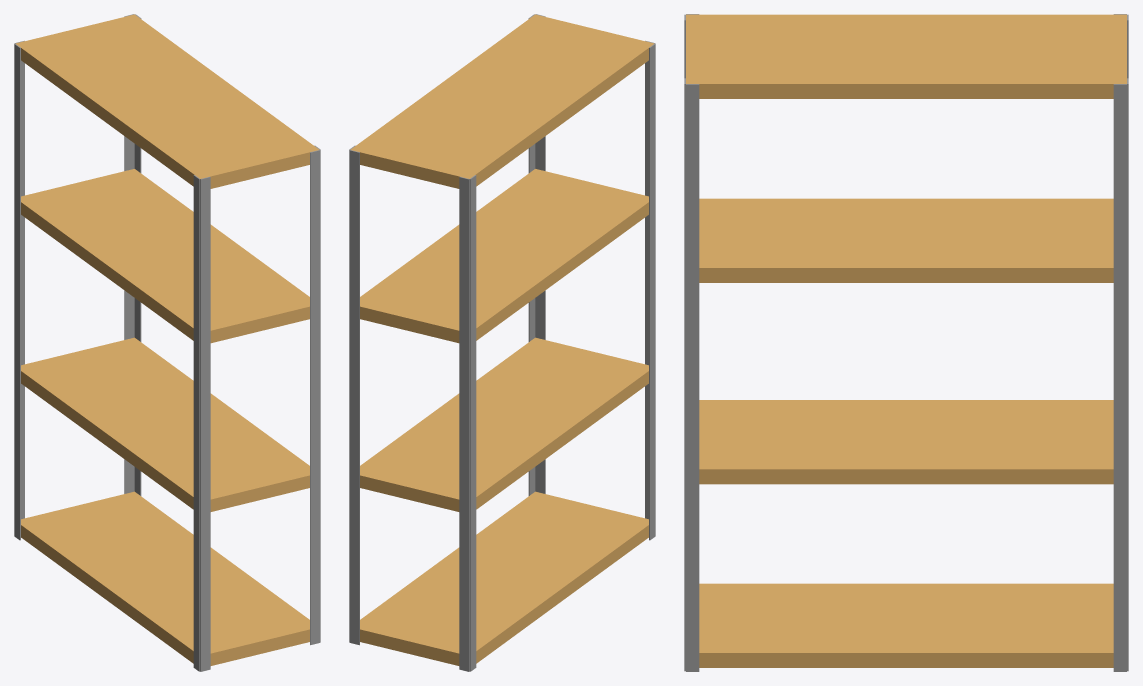
File: warehouse_shelves.dae
The picture shows the model from 3 angles, left to right: view 1: azimuth 30°, elevation 25°; view 2: azimuth 150°, elevation 25°; view 3: azimuth 270°, elevation 25°; orthographic projection. The views are drawn at different scales.
Parts seen in each view (by area): view 1: Cube; view 2: Cube; view 3: Cube.
Boxes of the visible parts, left/top/right/bottom form: Cube: left=14, top=14, right=320, bottom=671; Cube: left=349, top=14, right=655, bottom=671; Cube: left=684, top=14, right=1128, bottom=671.
Bounding box in the file's own units: 0.455 × 1.21 × 1.76.
